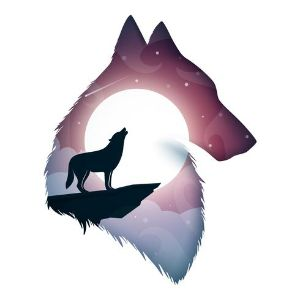wolf: (77, 12, 248, 267), (66, 121, 132, 192)
